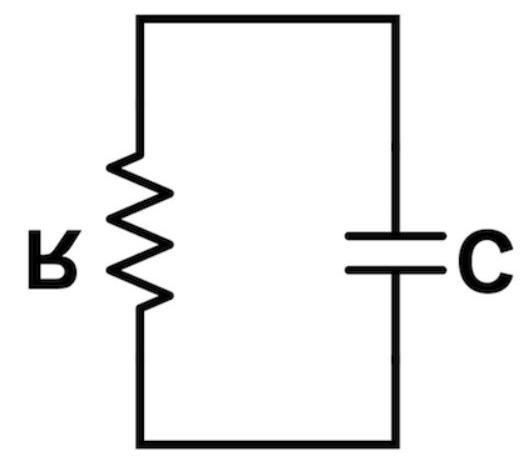Capacitor: (322, 163, 458, 315)
